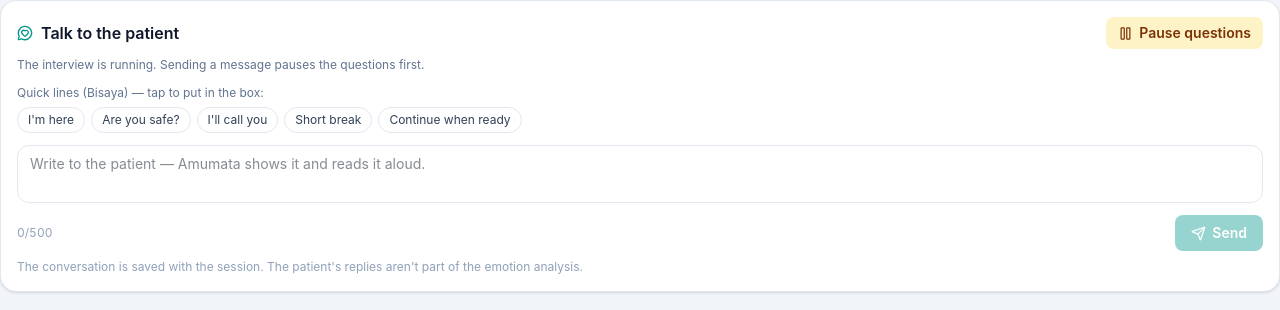
Test: LiveTalkPanel › quick lines come in the patient's language and go into the box to edit
Expected: the text "Quick lines (Bisaya) — tap to put in the box:" is shown, 17,85 -> 264,100
Step 1. Click the button "Are you safe?" → click(141, 120), box 91,107 -> 190,133
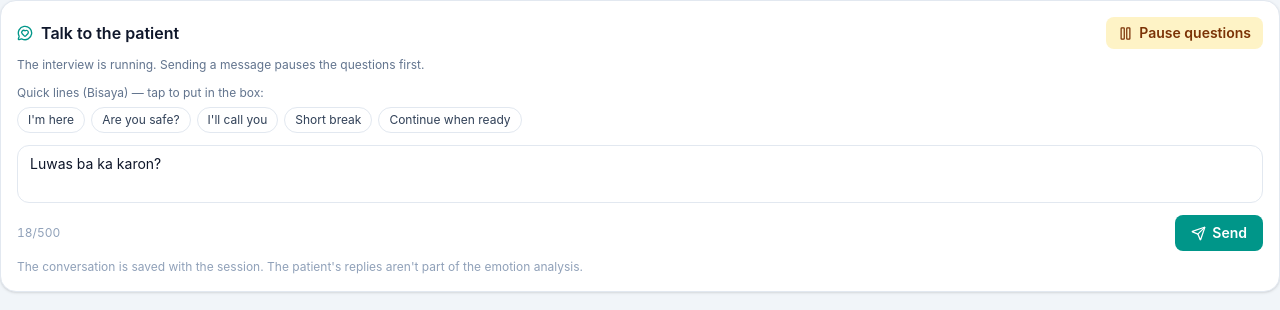
Result: the text box holds "Luwas ba ka karon?" at 17,145 -> 1263,203
